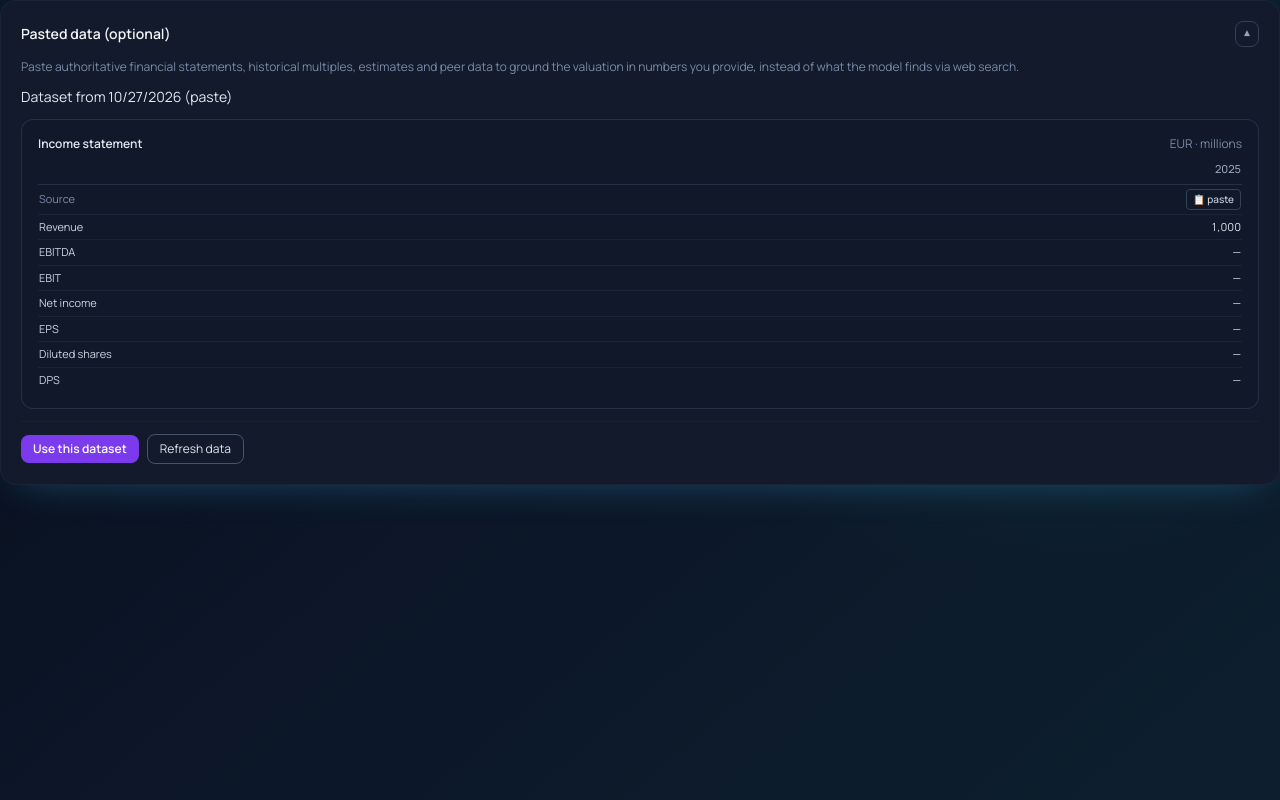
Test case: DatasetSection › seeds the editor with the dataset's blocks on Refresh data when there is no draft
Click the button "Refresh data" at (195, 449), box [147,434,244,464]
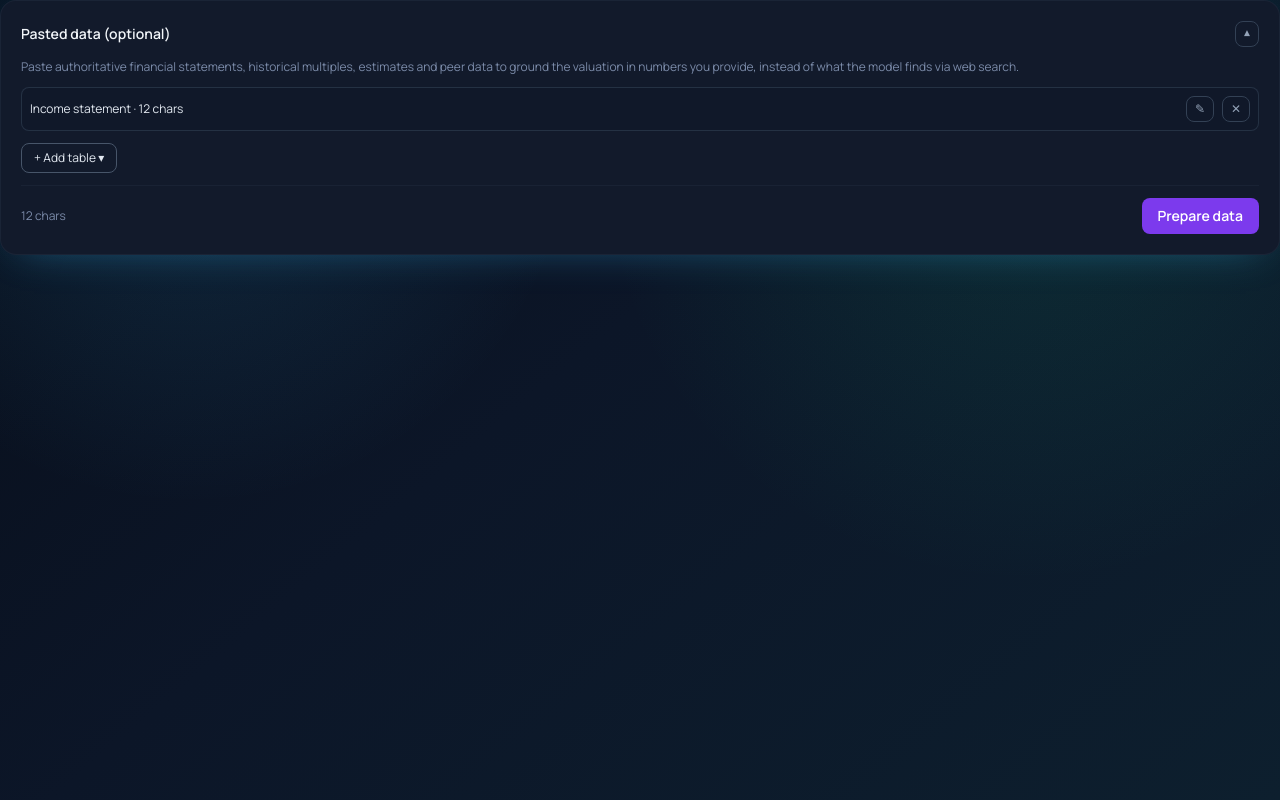
Check: the button "Income statement · 12 chars" is shown, box [30,101,1178,117]
